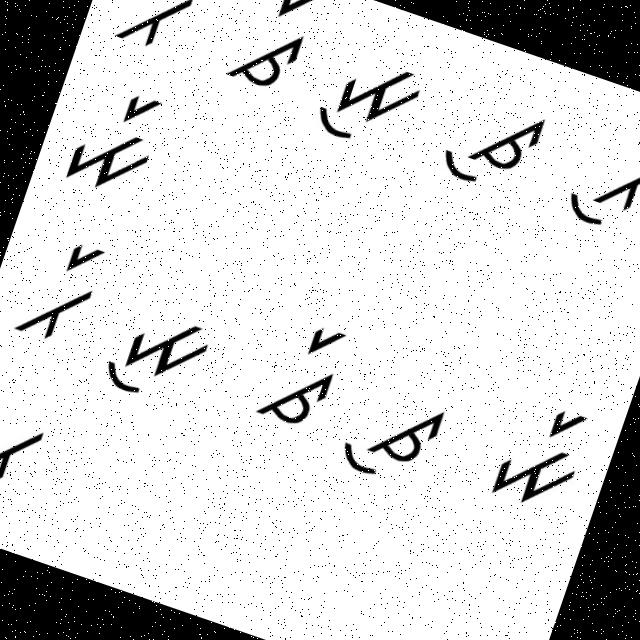bar: (0, 217, 116, 355), (106, 0, 210, 62)
baw: (550, 117, 639, 254), (0, 388, 57, 516)
car: (250, 311, 352, 444), (216, 0, 327, 102)
caw: (420, 76, 552, 212), (328, 364, 456, 502)
mar: (480, 382, 603, 520), (49, 73, 173, 205)
maw: (90, 286, 224, 416), (300, 36, 429, 164)
